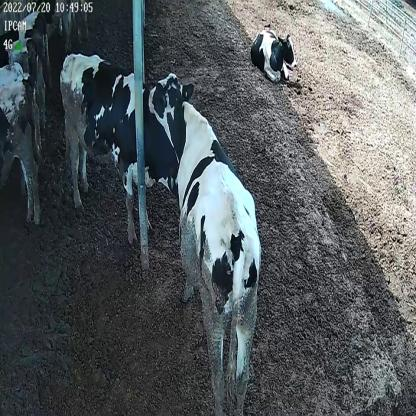cow: (148, 73, 262, 402), (59, 48, 184, 252), (249, 20, 298, 84)
